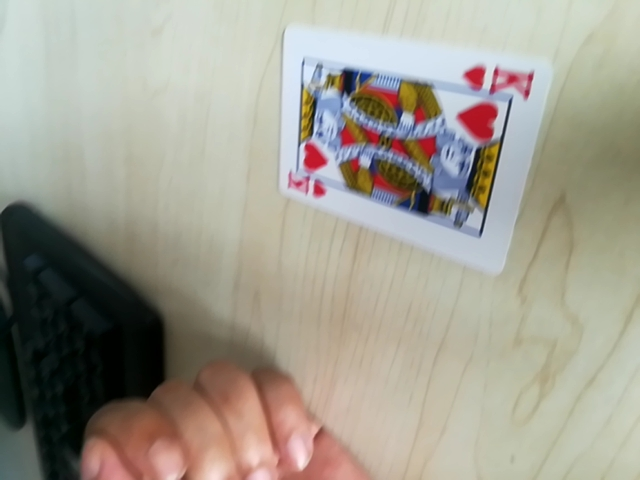hx k: (457, 56, 540, 100), (285, 169, 331, 201)
